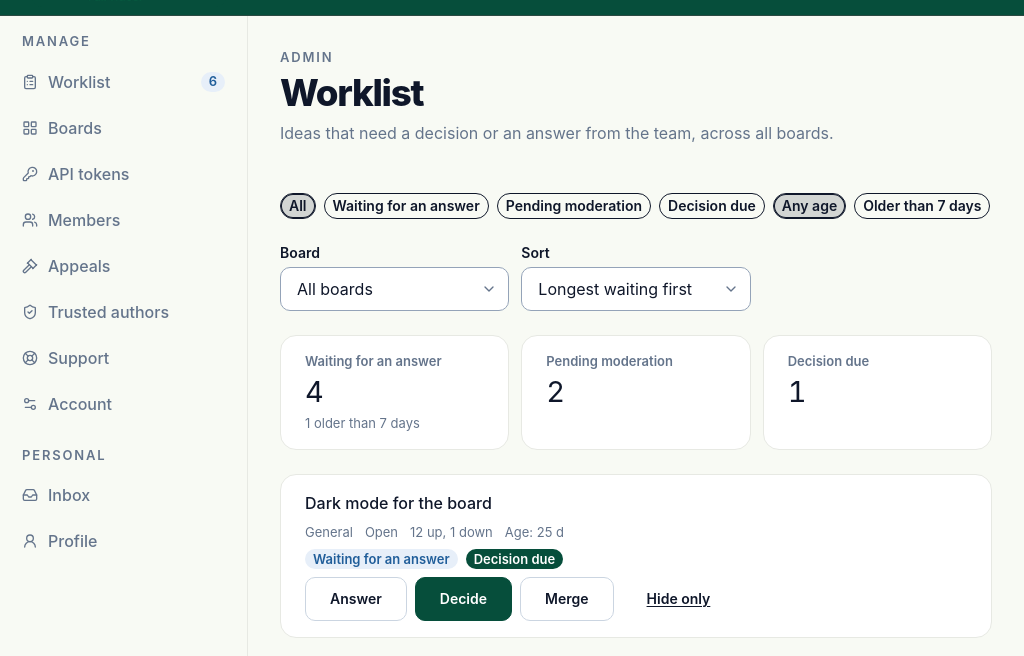
Test: WorklistPage — row actions (P-06 slice 04) › tells the admin shell that the worklist changed after a dismissal
This screenshot has width=1024, height=656.
Click the button with test id "worklist-row-11-dismiss". click: (678, 599)
box: [622,577,735,621]
(page scrolled)
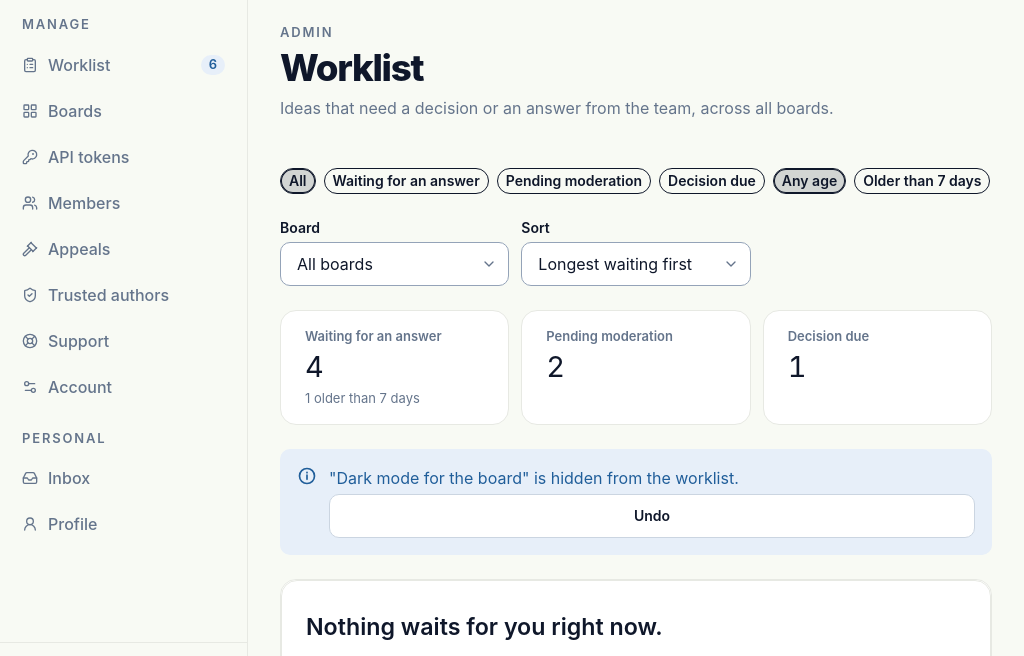
Now the list item with test id "worklist-row-11" is gone
